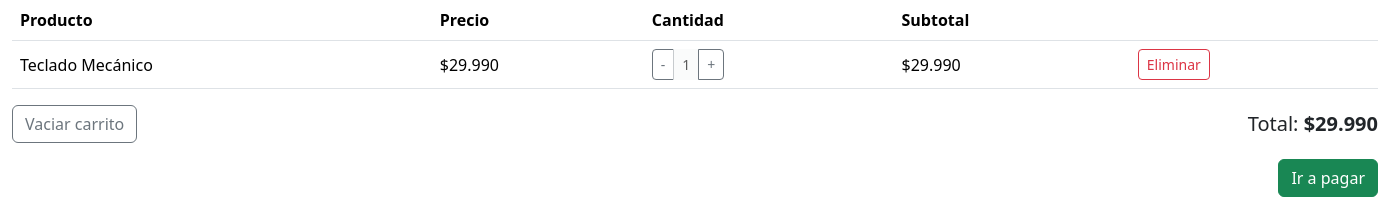
Test: CarritoVista › elimina el producto al hacer clic en Eliminar
Click the button "Eliminar" at point(1174, 64), box [1138,49,1210,80]
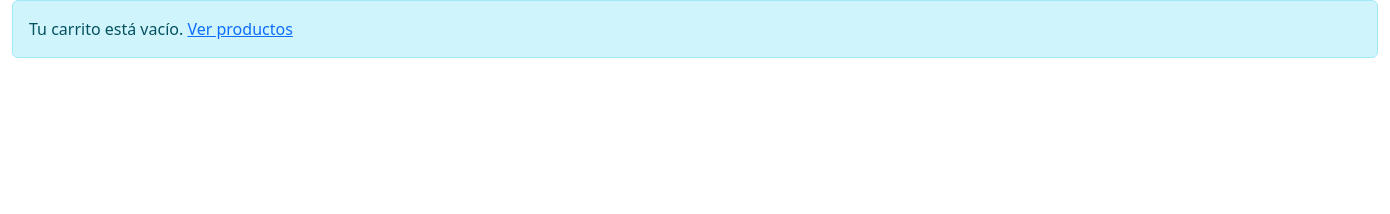
Result: the text "Tu carrito está vacío. Ver productos" is shown at [12,0,1378,58]
